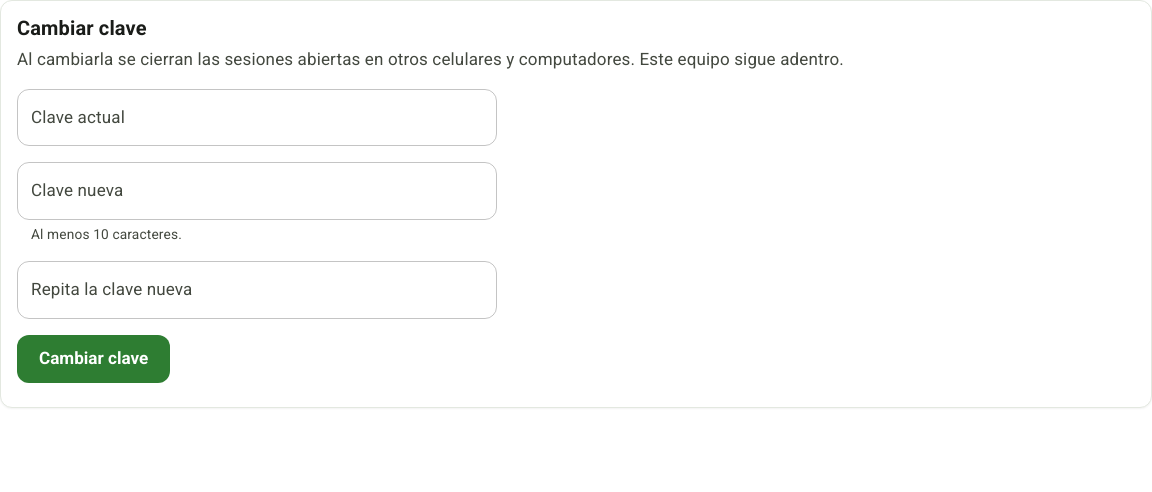
Cambiar clave › changes it, keeps this device signed in, and the old one stops working
Type "esperanza" into the password field labelled "Clave actual" at (257, 118), box 17,89 -> 497,146
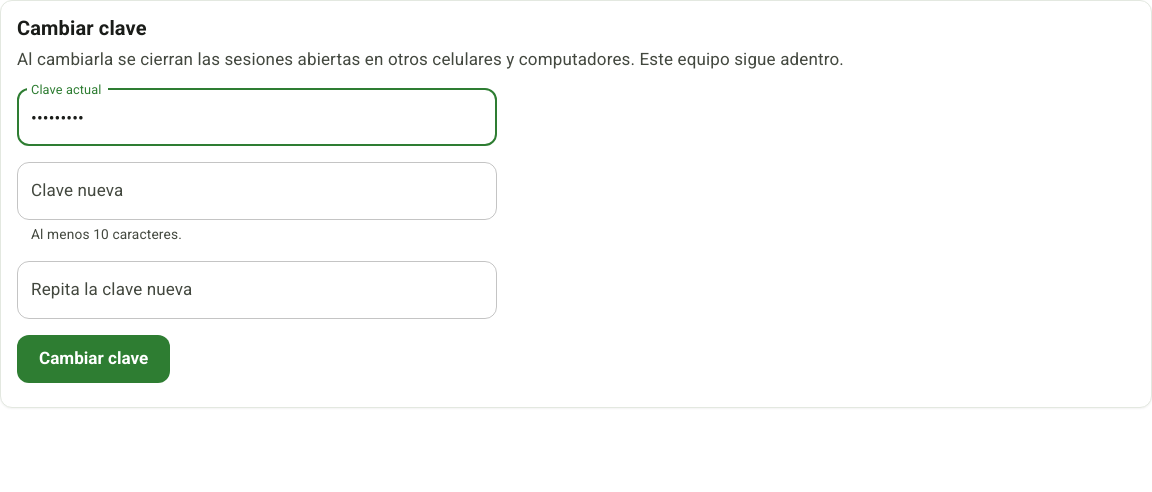
Type "una-clave-nueva-1" into the password field labelled "Clave nueva" at (257, 191), box 17,162 -> 497,220
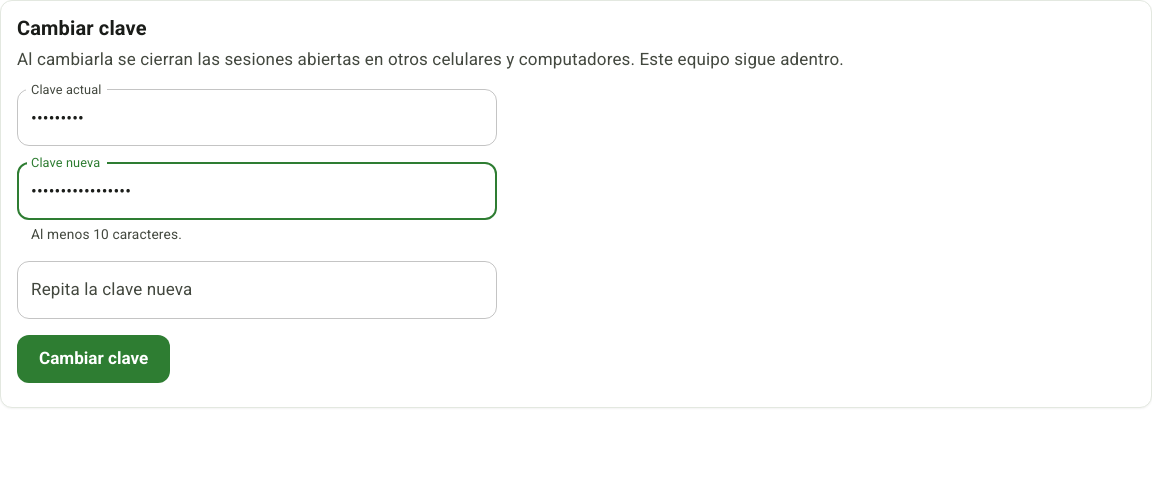
Type "una-clave-nueva-1" into the password field labelled "Repita la clave nueva" at (257, 290), box 17,262 -> 497,319
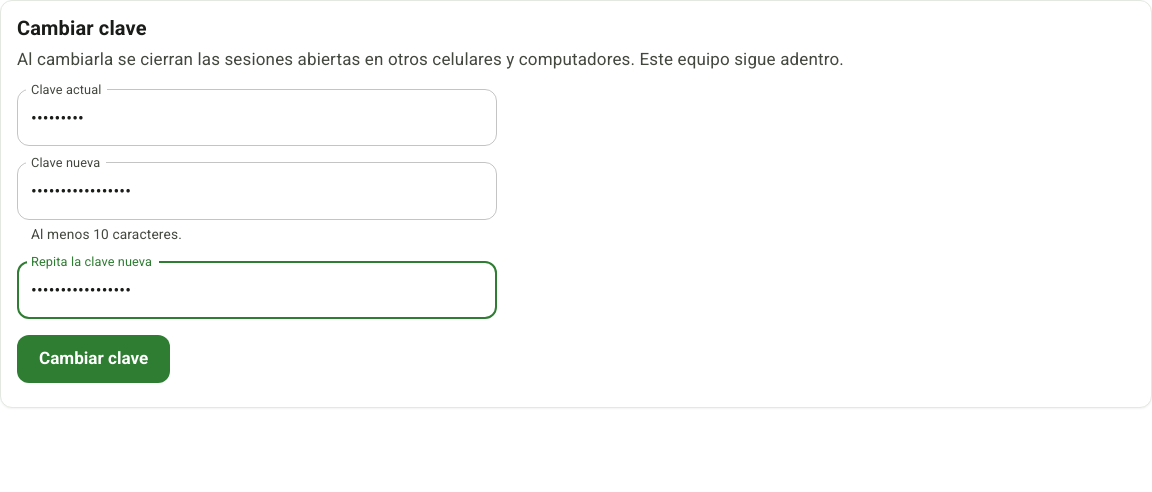
Click the button "Cambiar clave" at (94, 359), box 17,335 -> 170,383
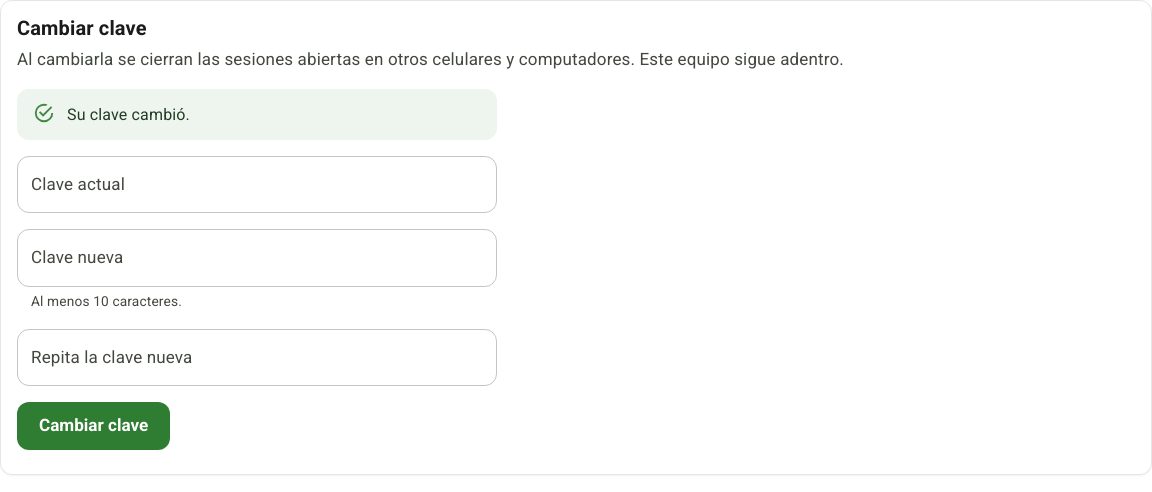
Expected: the text "Su clave cambió." is shown, 67,105 -> 190,124
